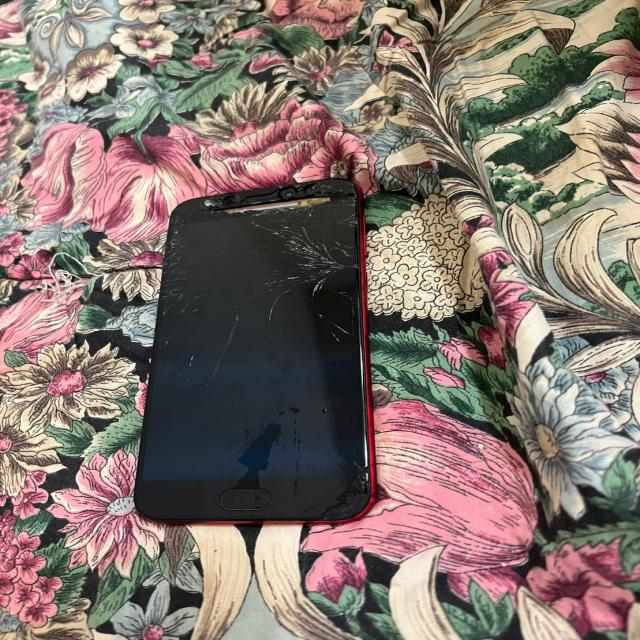Smartphone: (134, 179, 376, 524)
